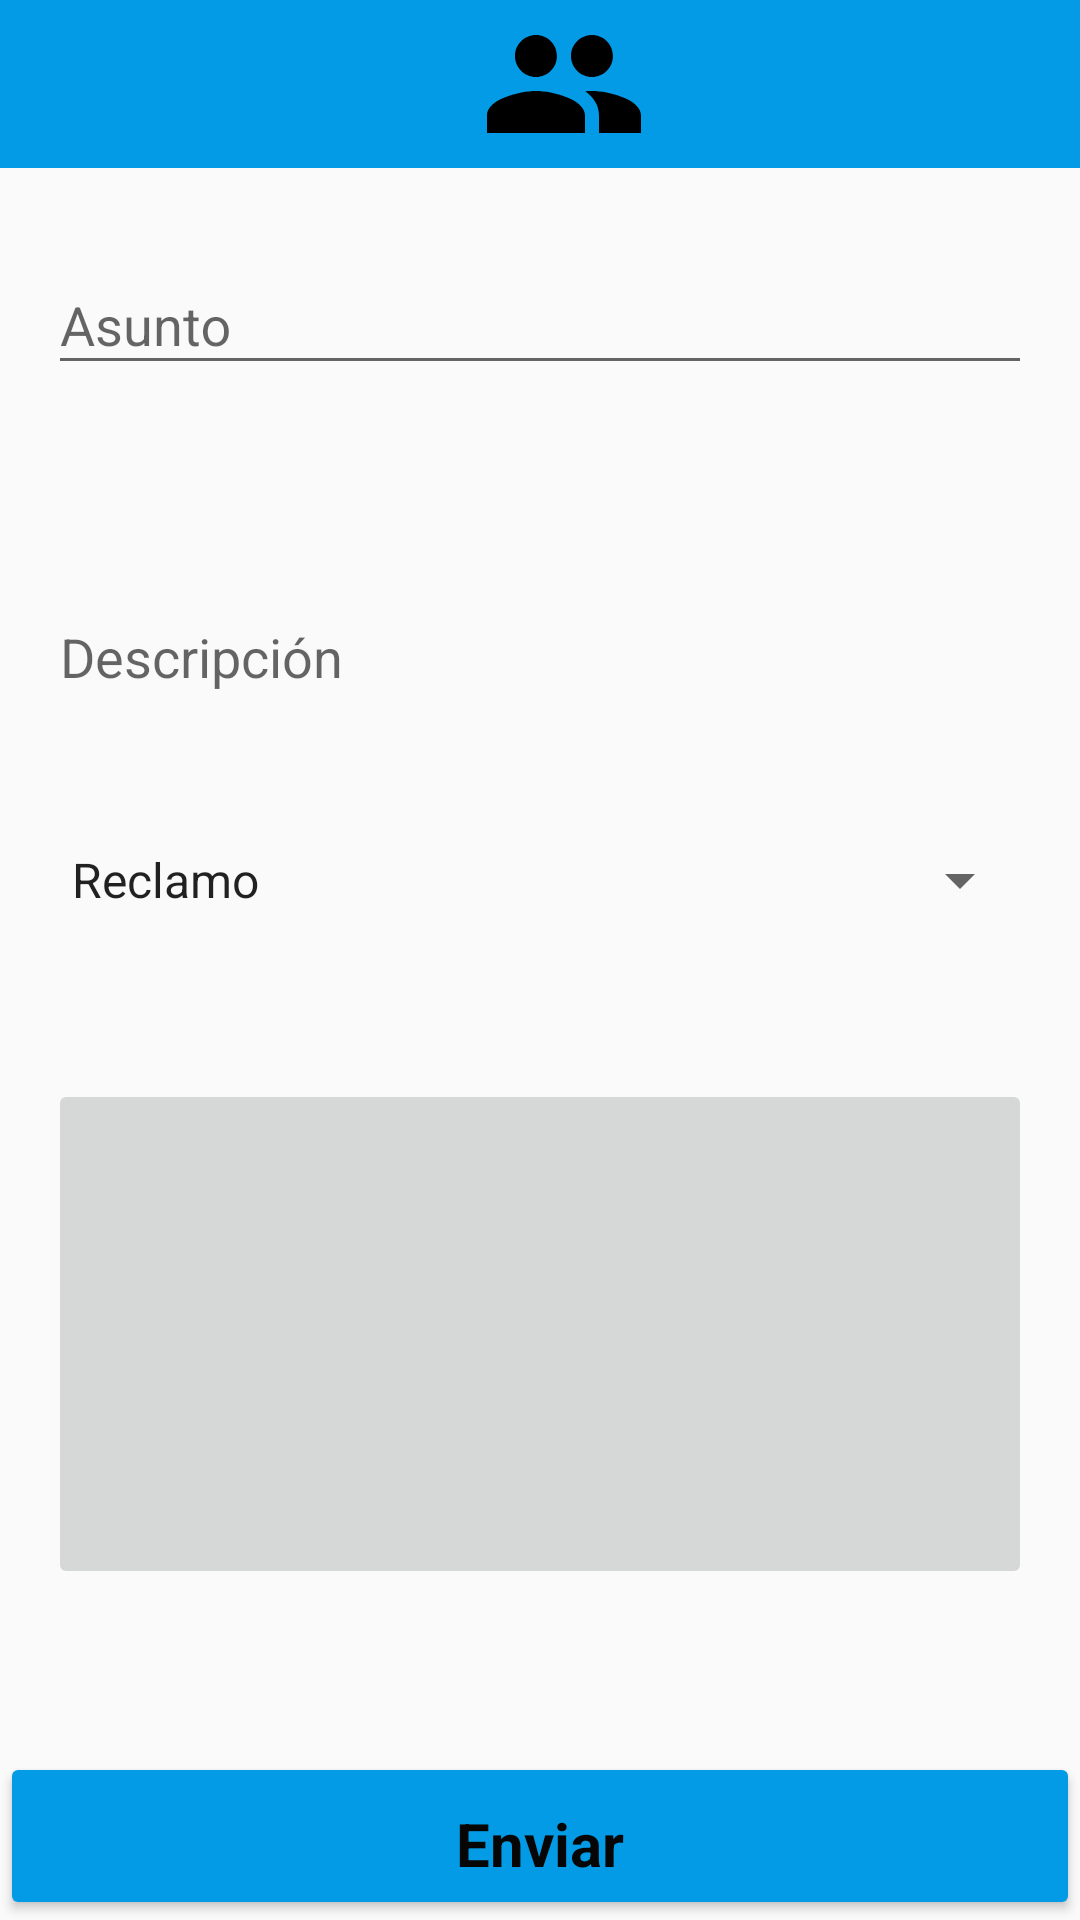

Icon bounding boxes for this 1080 x 1920 phone screenshot, format [x1=x1, y1=y1, x2=x2, y2=y2]:
people: [x1=487, y1=35, x2=641, y2=133]
